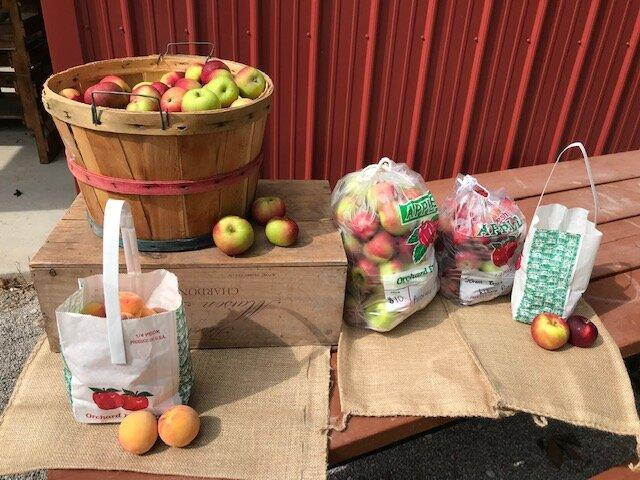apple: (158, 404, 200, 448), (116, 410, 158, 454), (210, 215, 252, 256), (531, 314, 569, 349), (84, 81, 126, 108), (232, 66, 265, 99), (264, 216, 299, 246), (183, 89, 220, 114), (208, 77, 238, 107), (570, 315, 597, 347), (183, 64, 202, 80)
